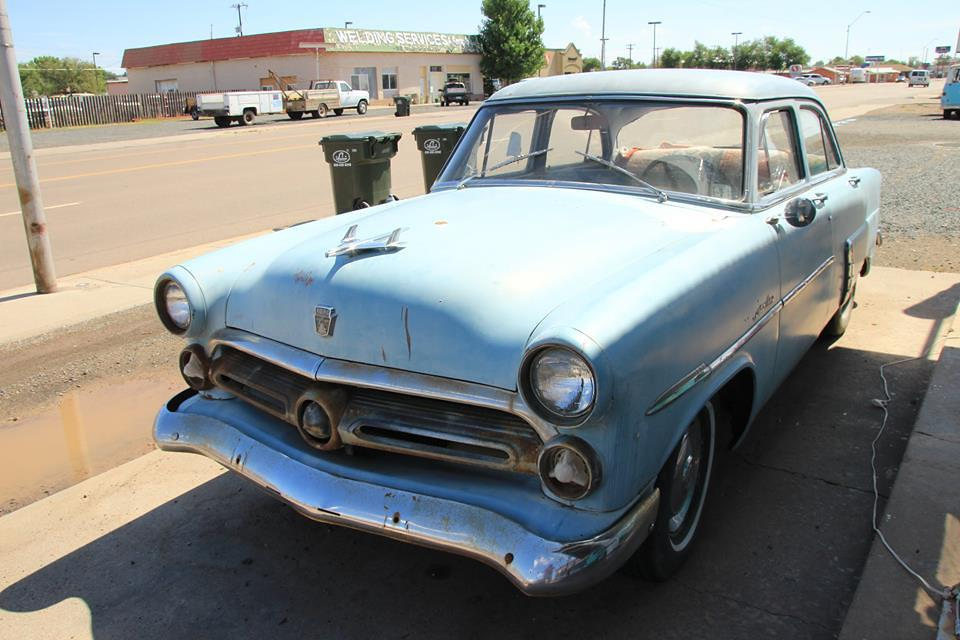bonnet-dent: (239, 183, 567, 355)
